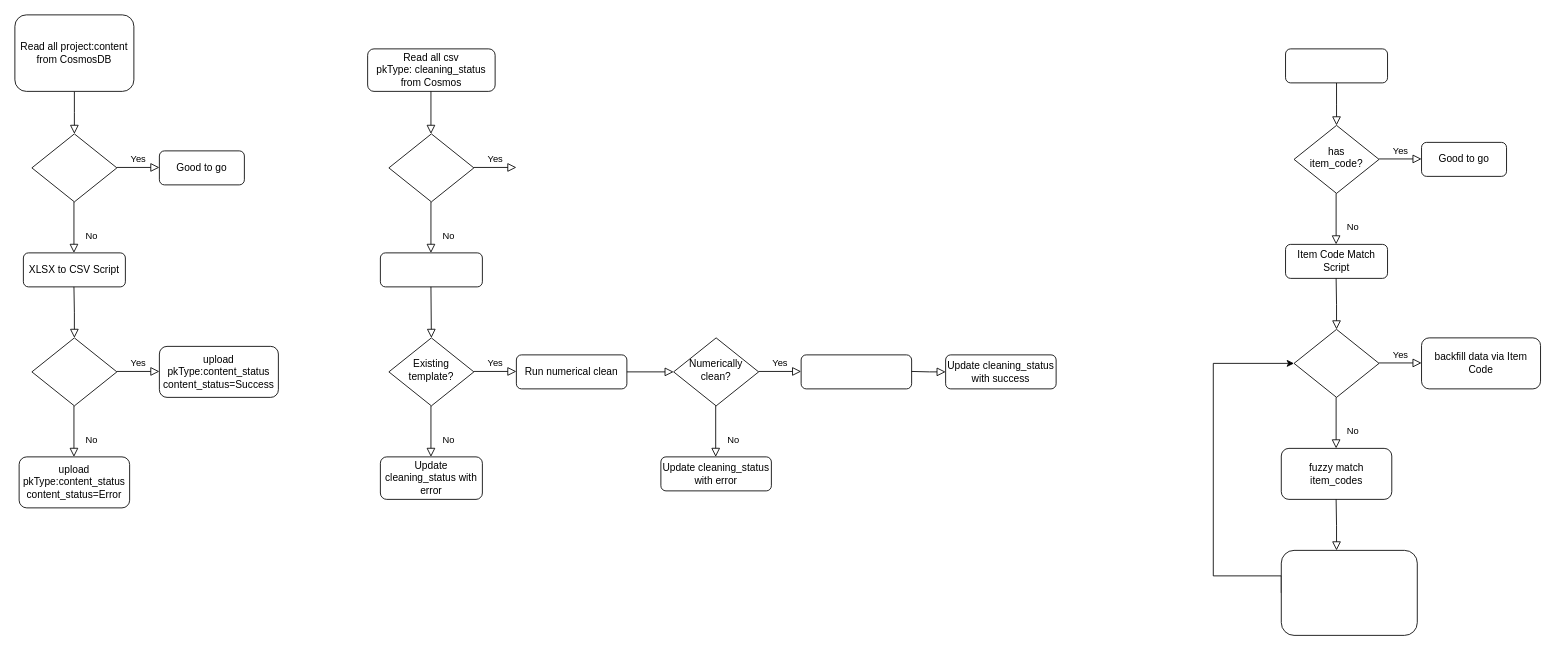
The diagram is 1556 pixels wide and 650 high, and some of its shapes have lost their labels. The box of each missing label's shape, as (x1, y1, x2, y2) in pixels:
Already cleaned?: (388, 133, 474, 202)
Already transformed into CSV?: (31, 133, 117, 202)
Dump into silver lake: (800, 354, 912, 389)
Item Code Match?: (1293, 329, 1379, 397)
Read all cleaning_status from CosmosDB: (1285, 48, 1388, 83)
Run template clean: (380, 252, 482, 287)
Successful upload?: (31, 337, 117, 406)
upload to cosmosDB via pkType: item_code_match item_code_match = False: (1280, 550, 1417, 635)
